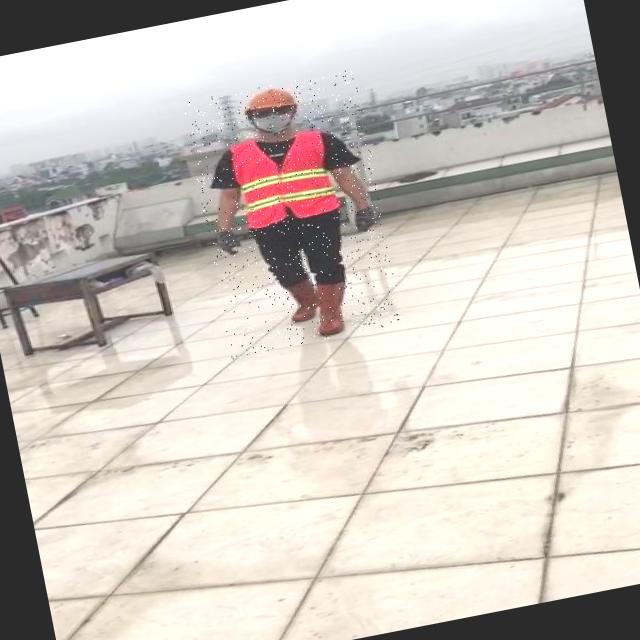boots: (309, 278, 354, 336), (284, 278, 317, 328)
helmet: (240, 84, 300, 115)
vest: (230, 125, 341, 232)
